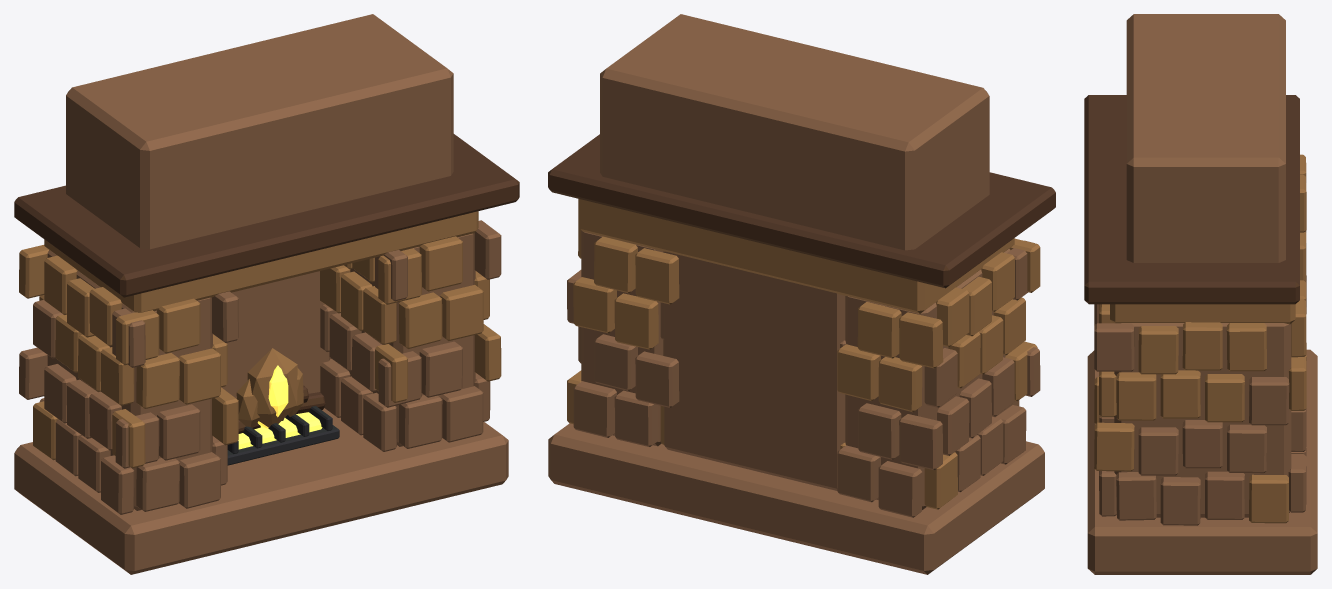
The model's file is prop_fireplace_hearth_a.glb.
3 renders of one model, left to right at view 1: azimuth 30°, elevation 25°; view 2: azimuth 150°, elevation 25°; view 3: azimuth 270°, elevation 25°, orthographic. The views are drawn at different scales.
Visible parts, largest first — view 1: hearth_arch_lintel, hearth_fire_log_0, hearth_grate_bar_0, hearth_ember_bed; view 2: hearth_arch_lintel, hearth_fire_log_0; view 3: hearth_arch_lintel, hearth_fire_log_0.
Part boxes in pixels (x1,y1,x2,y2): hearth_arch_lintel: [14, 14, 508, 574]; hearth_fire_log_0: [14, 134, 519, 433]; hearth_grate_bar_0: [227, 406, 339, 465]; hearth_ember_bed: [238, 365, 322, 449]; hearth_arch_lintel: [548, 14, 1044, 574]; hearth_fire_log_0: [548, 134, 1055, 288]; hearth_arch_lintel: [1087, 14, 1317, 574]; hearth_fire_log_0: [1084, 95, 1299, 304].
Bounding box in the file's own units: 2.55 × 2.5 × 1.32.
